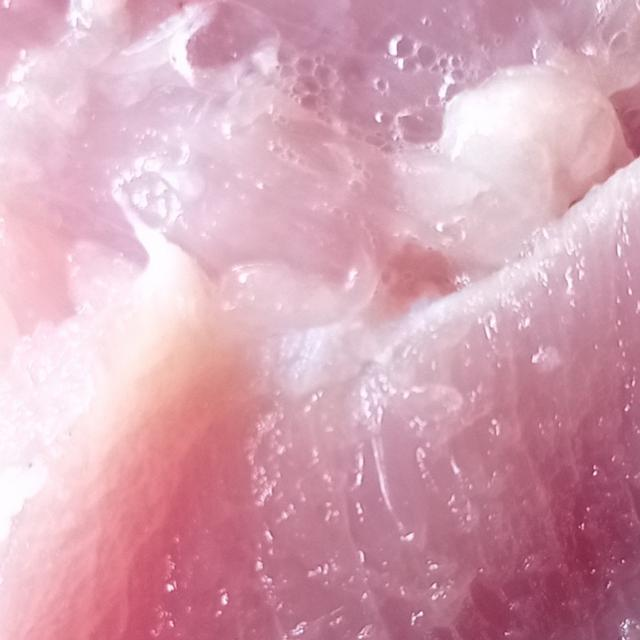Pork: (1, 2, 640, 640)
